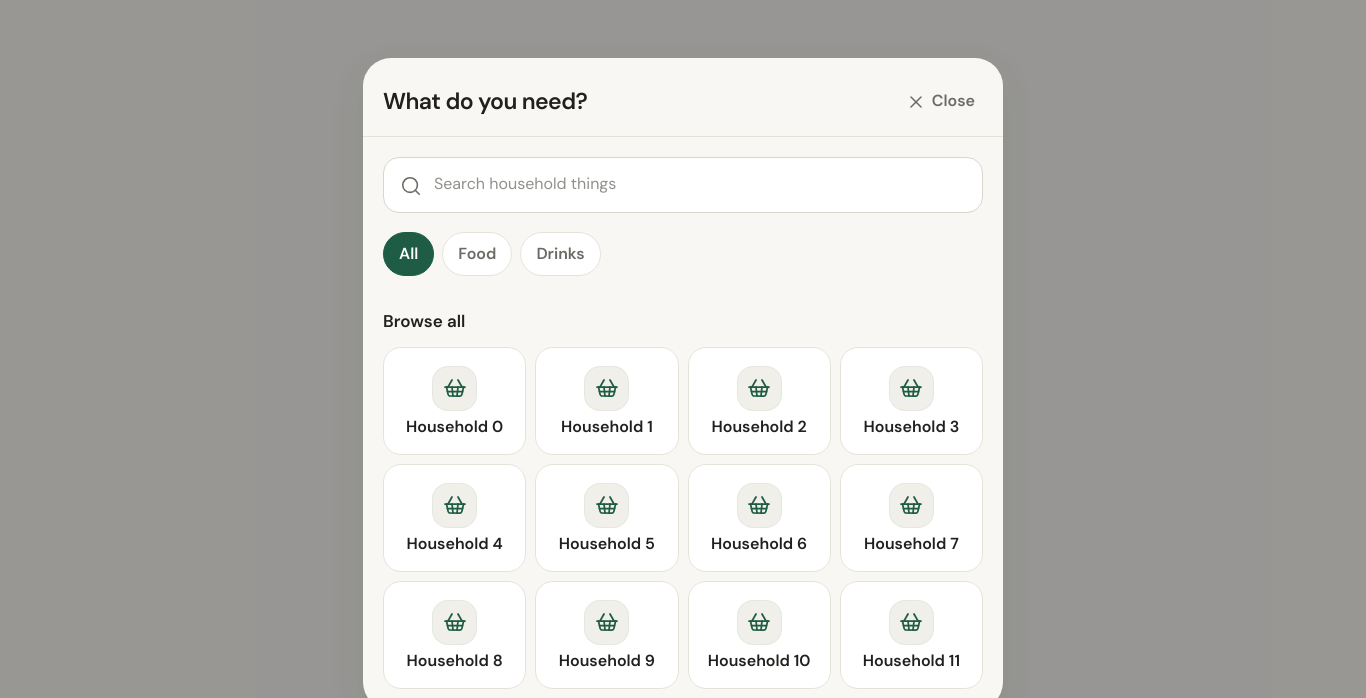
Test case: item selection › keeps every catalog item reachable and preserves search when going Back
The width and height of the screenshot is (1366, 698).
Type "Household 35" into the field labelled "Search". click: (683, 185)
box: [383,157,983,213]
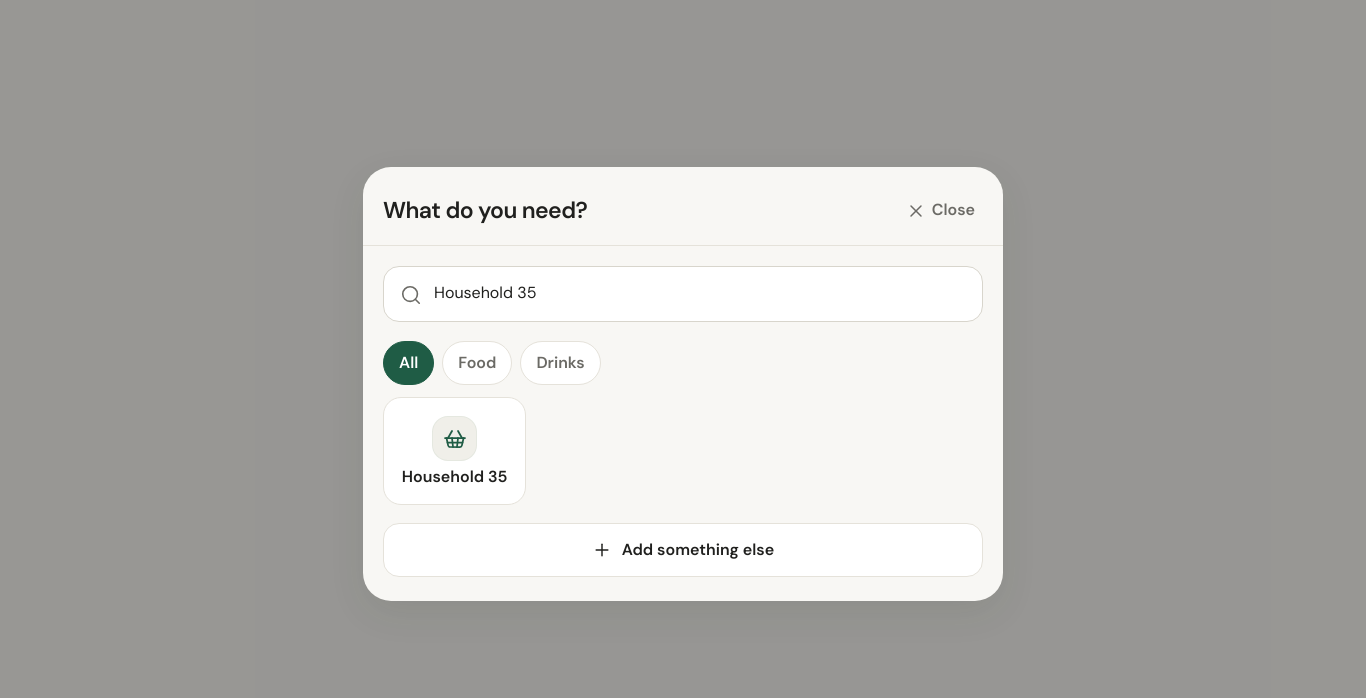
Click the button "Household 35". click: (455, 451)
box: [383,397,526,505]
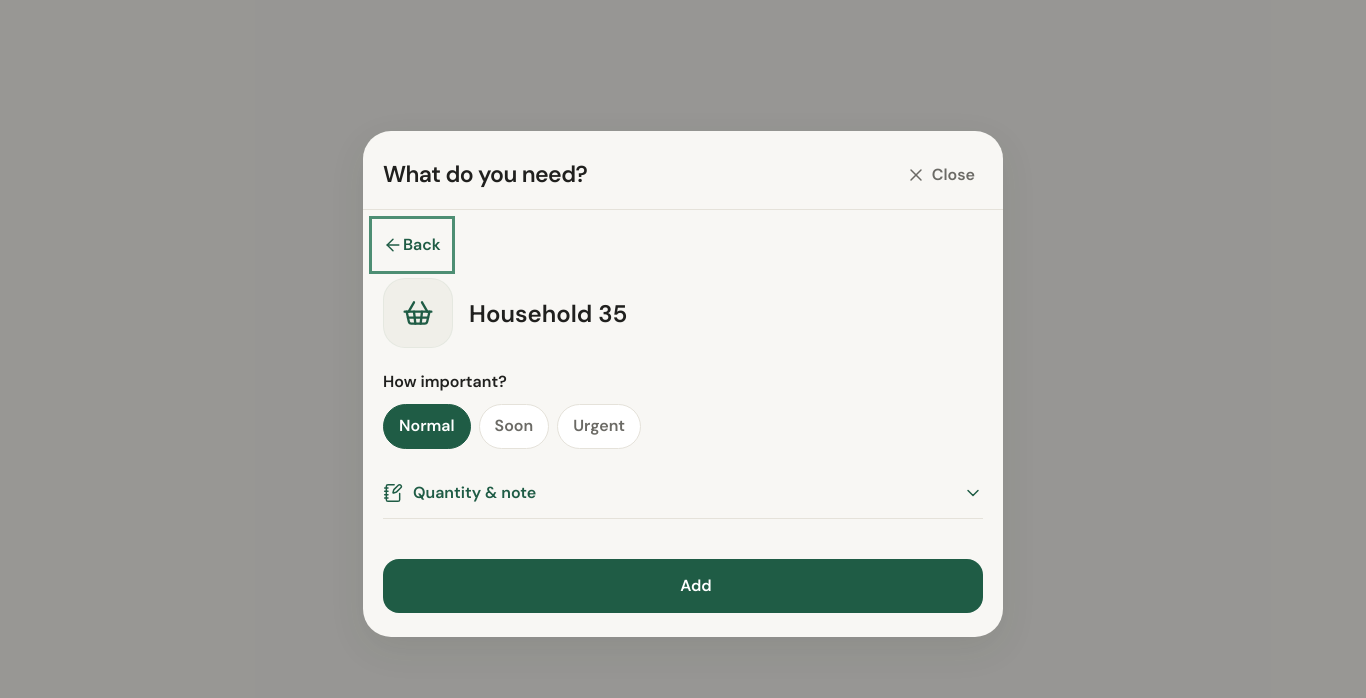
Click the button "Back". click: (412, 245)
box: [375,222,449,268]
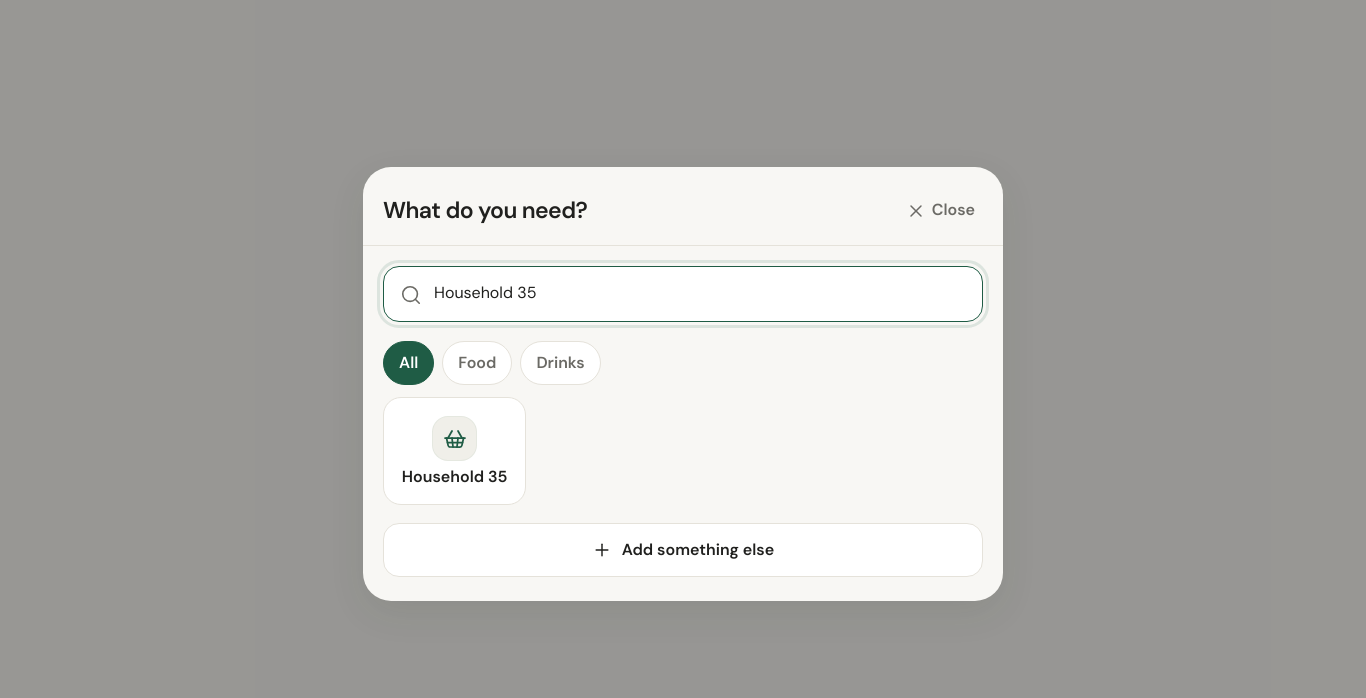
Result: the field named "Search" holds "Household 35" at [383,266,983,322]
